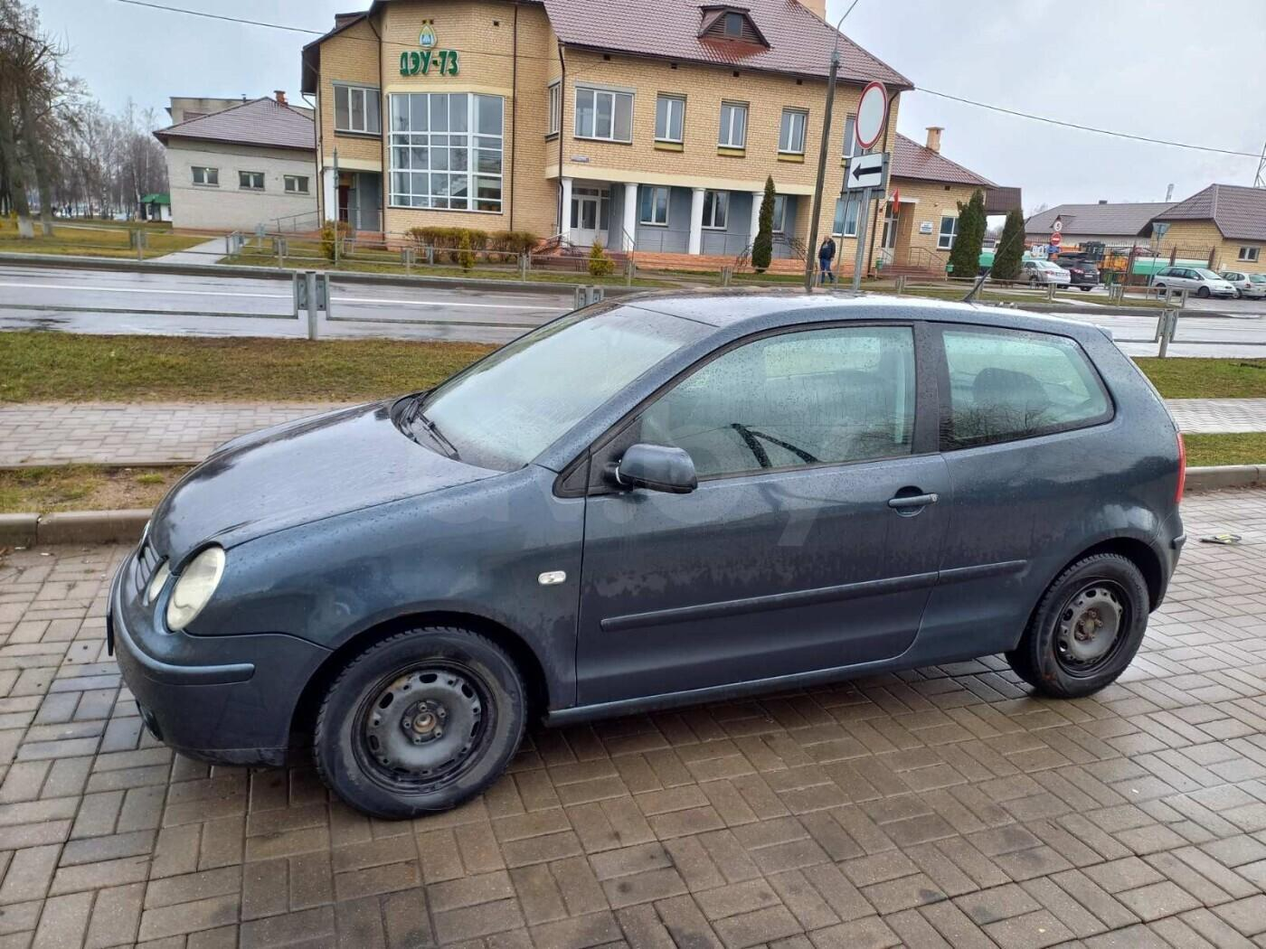Polo_2001-2005: (107, 284, 1186, 815)
